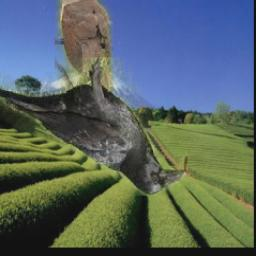Crow: (0, 58, 186, 197)
Cuckoo: (54, 0, 112, 92)
